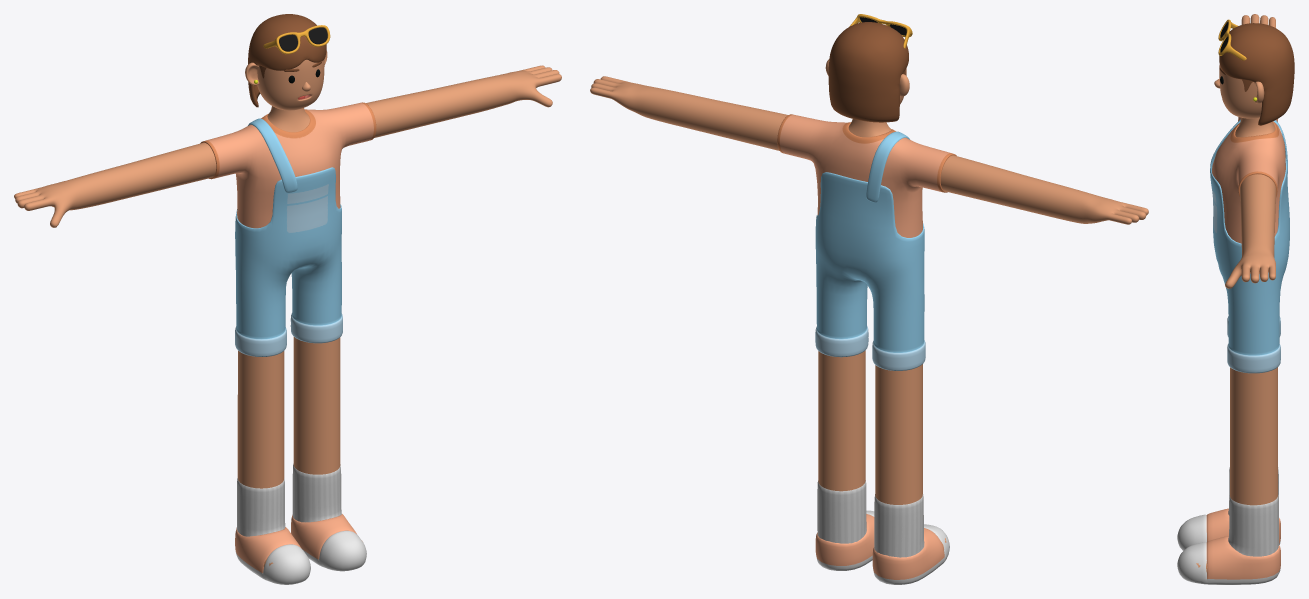
File: GIRL 6.fbx
3 renders of one model, left to right at view 1: azimuth 30°, elevation 25°; view 2: azimuth 150°, elevation 25°; view 3: azimuth 270°, elevation 25°, orthographic.
Parts seen in each view (by area): view 1: GIRL_BODY (NO SKIRT).004, GIRL 6_OVERALLS, GIRL 6_SHIRT, GIRL 6_SOCKS, GIRL_6_SHOES.R, GIRL_6_SHOES.L, GIRL 6_HAIR, GIRL 6_SHIRT.001, GIRL 6_GLASSES; view 2: GIRL_BODY (NO SKIRT).004, GIRL 6_OVERALLS, GIRL 6_SHIRT, GIRL 6_HAIR, GIRL 6_SOCKS, GIRL_6_SHOES.R, GIRL_6_SHOES.L, GIRL 6_SHIRT.001; view 3: GIRL_BODY (NO SKIRT).004, GIRL 6_OVERALLS, GIRL 6_HAIR, GIRL 6_SHIRT, GIRL_6_SHOES.L, GIRL 6_SOCKS, GIRL_6_SHOES.R, GIRL 6_GLASSES, GIRL 6_SHIRT.001.
Part boxes in pixels (box(x1,y1,x2,y2)): GIRL_BODY (NO SKIRT).004: box(14, 51, 561, 566); GIRL 6_OVERALLS: box(235, 167, 342, 356); GIRL 6_SHIRT: box(200, 102, 376, 228); GIRL 6_SOCKS: box(237, 464, 341, 536); GIRL_6_SHOES.R: box(235, 527, 310, 584); GIRL_6_SHOES.L: box(291, 514, 366, 571); GIRL 6_HAIR: box(248, 14, 326, 107); GIRL 6_SHIRT.001: box(248, 118, 297, 192); GIRL 6_GLASSES: box(263, 25, 330, 54); GIRL_BODY (NO SKIRT).004: box(590, 59, 1148, 549); GIRL 6_OVERALLS: box(815, 172, 925, 370); GIRL 6_SHIRT: box(777, 114, 956, 237); GIRL 6_HAIR: box(828, 22, 908, 122); GIRL 6_SOCKS: box(817, 480, 924, 557); GIRL_6_SHOES.R: box(872, 524, 949, 584); GIRL_6_SHOES.L: box(815, 510, 874, 570); GIRL 6_SHIRT.001: box(866, 131, 909, 202); GIRL_BODY (NO SKIRT).004: box(1196, 14, 1277, 572); GIRL 6_OVERALLS: box(1210, 158, 1289, 373); GIRL 6_HAIR: box(1219, 23, 1294, 125); GIRL 6_SHIRT: box(1212, 117, 1285, 243); GIRL_6_SHOES.L: box(1177, 536, 1280, 584); GIRL 6_SOCKS: box(1228, 467, 1278, 556); GIRL_6_SHOES.R: box(1177, 508, 1280, 550); GIRL 6_GLASSES: box(1218, 19, 1246, 60); GIRL 6_SHIRT.001: box(1210, 119, 1287, 175).
Size of the model in its own units: 205 by 192 by 38.34.
13 materials, 10 textured.
